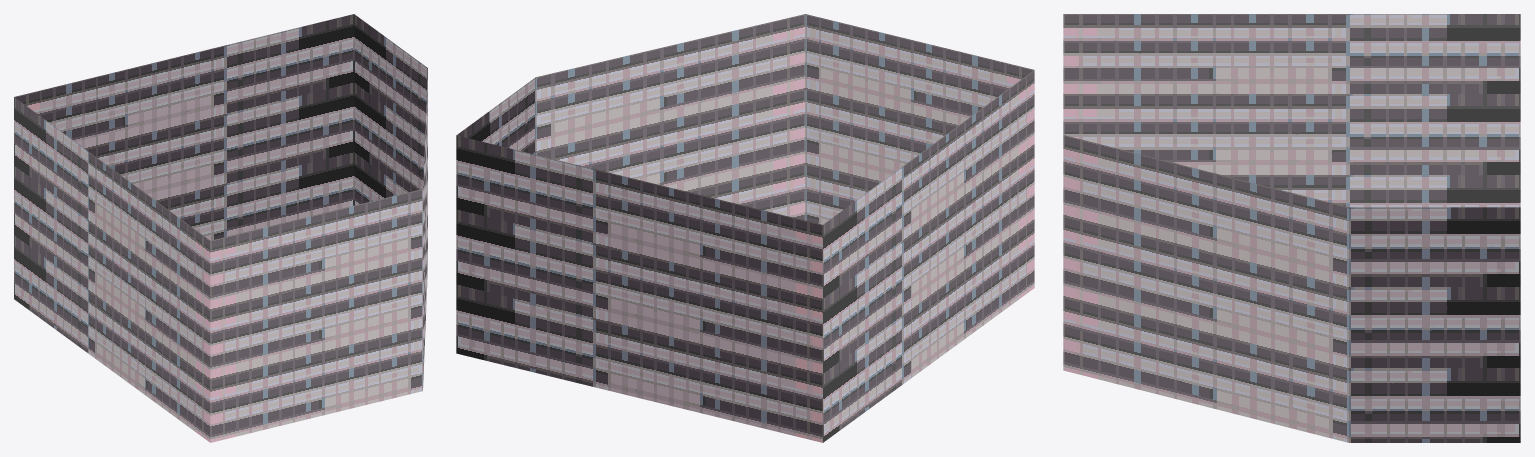
3 renders of one model, left to right at view 1: azimuth 30°, elevation 25°; view 2: azimuth 150°, elevation 25°; view 3: azimuth 270°, elevation 25°, orthographic. The views are drawn at different scales.
Parts seen in each view (by area): view 1: obj-106; view 2: obj-106; view 3: obj-106.
Part boxes in pixels (x1,y1,x2,y2): obj-106: (14,14,427,442); obj-106: (456,14,1034,442); obj-106: (1063,14,1520,442).
Bounding box in the file's own units: 3.69 × 2.09 × 3.69.
Materials: 1 (1 with a texture image).
